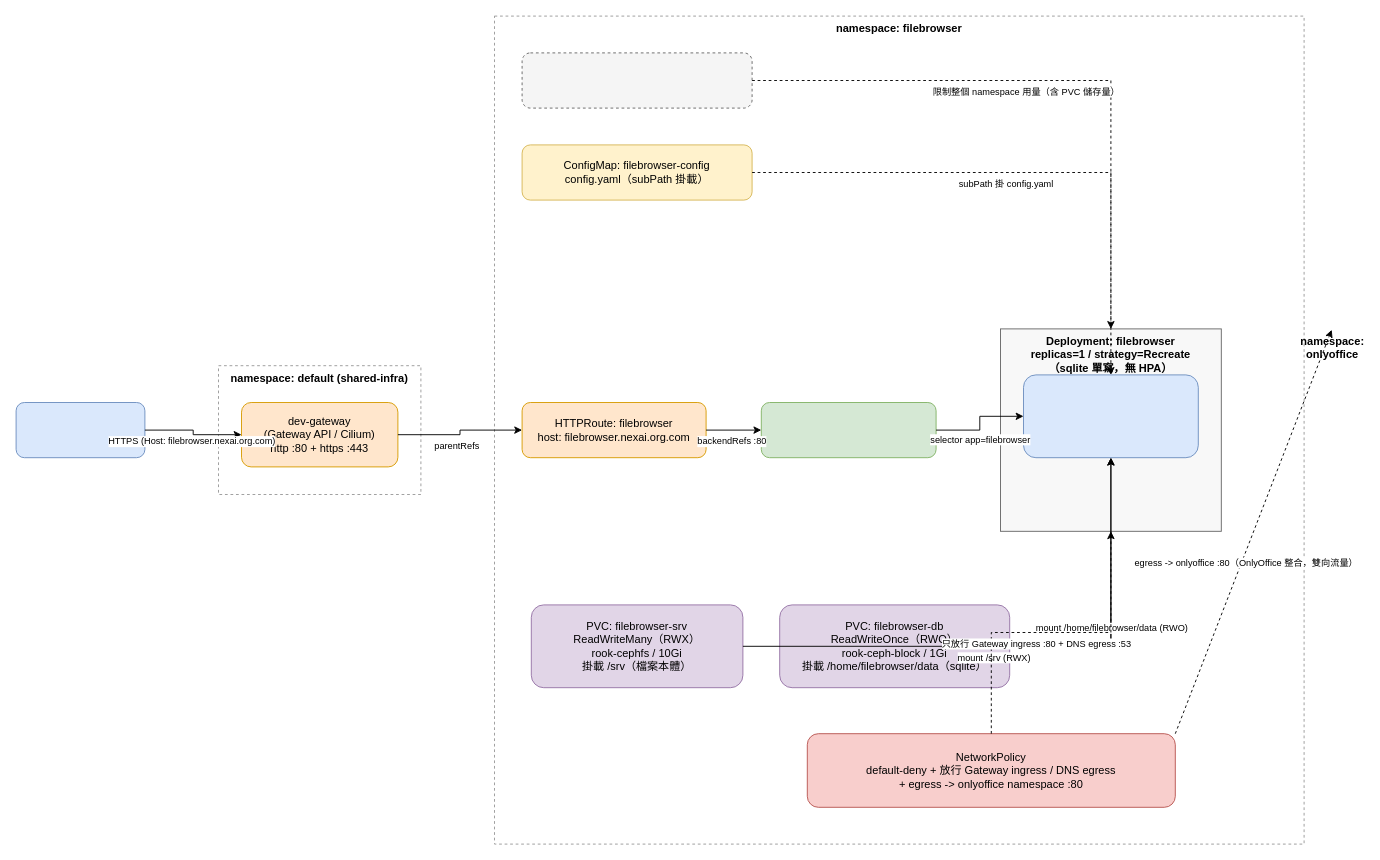
This 1380x860 diagram has some shape labels left out. Each missing label, with the centre of its shape:
"Pod（唯一） gtstef/filebrowser:1.5.6-stable :80" goes at [1110,416].
"ResourceQuota + LimitRange (含 requests.storage / PVC 數量配額)" goes at [636,80].
"Service: filebrowser ClusterIP :80 -> :80(http)" goes at [848,430].
"學員瀏覽器" goes at [80,430].
